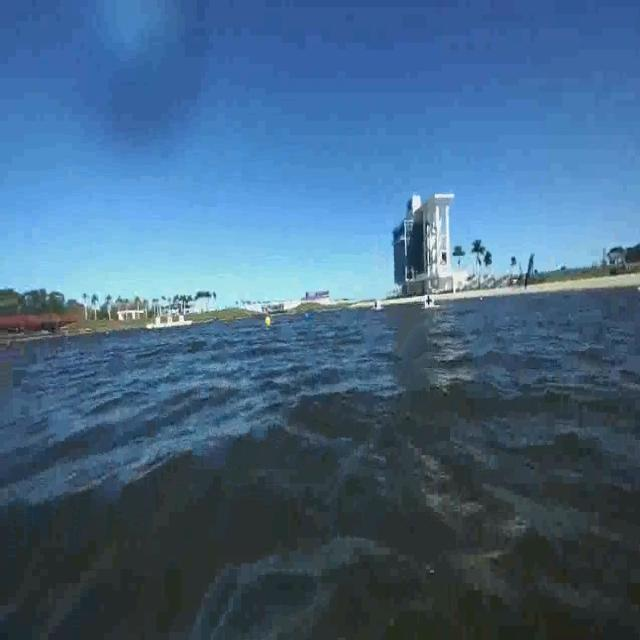yellow-buoy: (266, 316, 274, 328)
